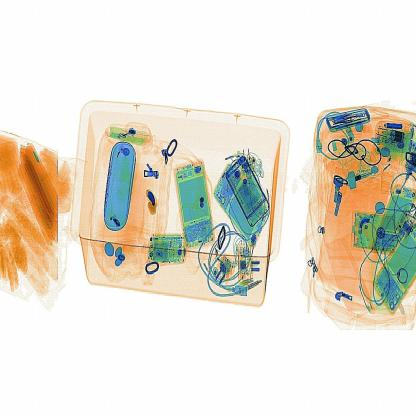wrench: (137, 180, 169, 226)
